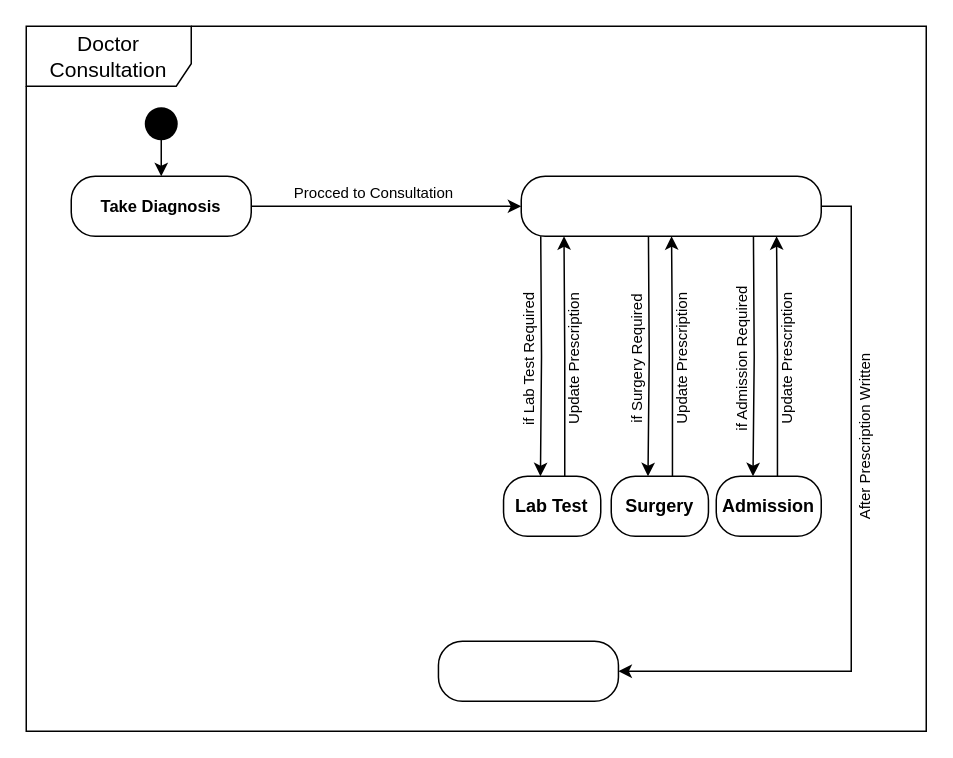
Image size: 953x758. Some labels were removed from this diagram. Each missing label, with the centre of its shape:
"Return" belongs at point (527, 670).
"Write Prescription" belongs at point (670, 205).
